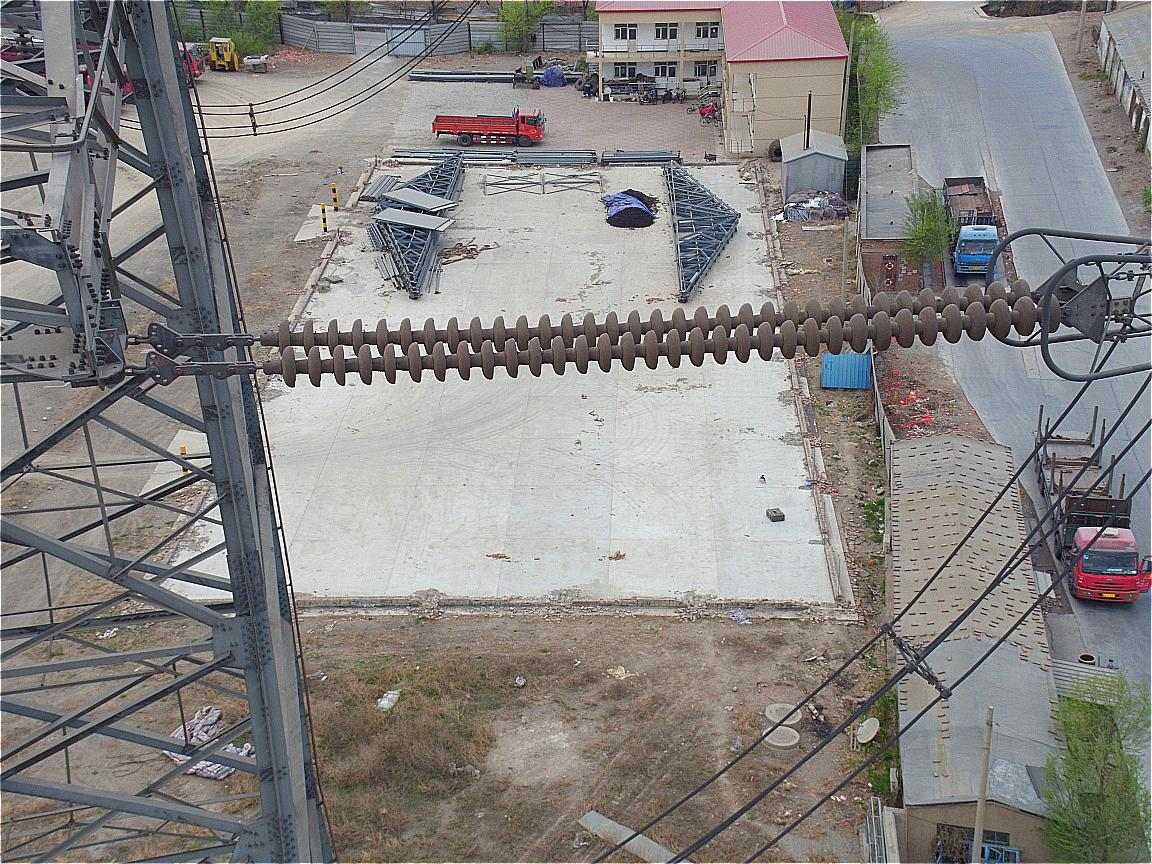insultor1: (236, 274, 1085, 390)
